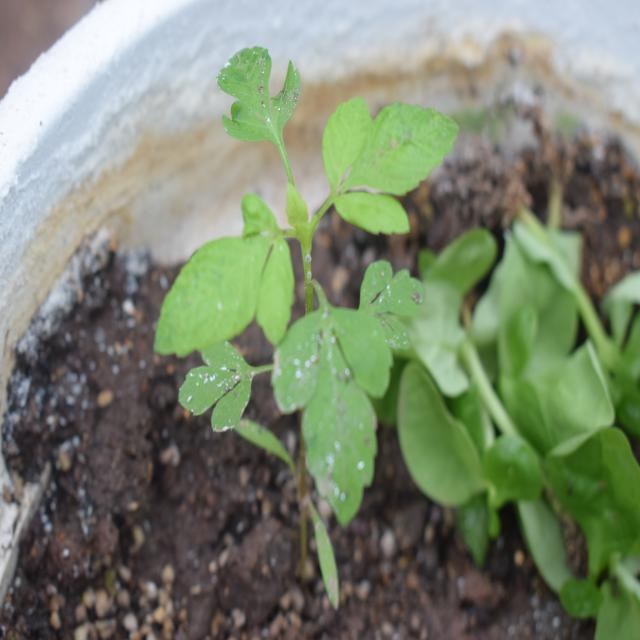Bidens pilosa: (178, 28, 466, 537)
